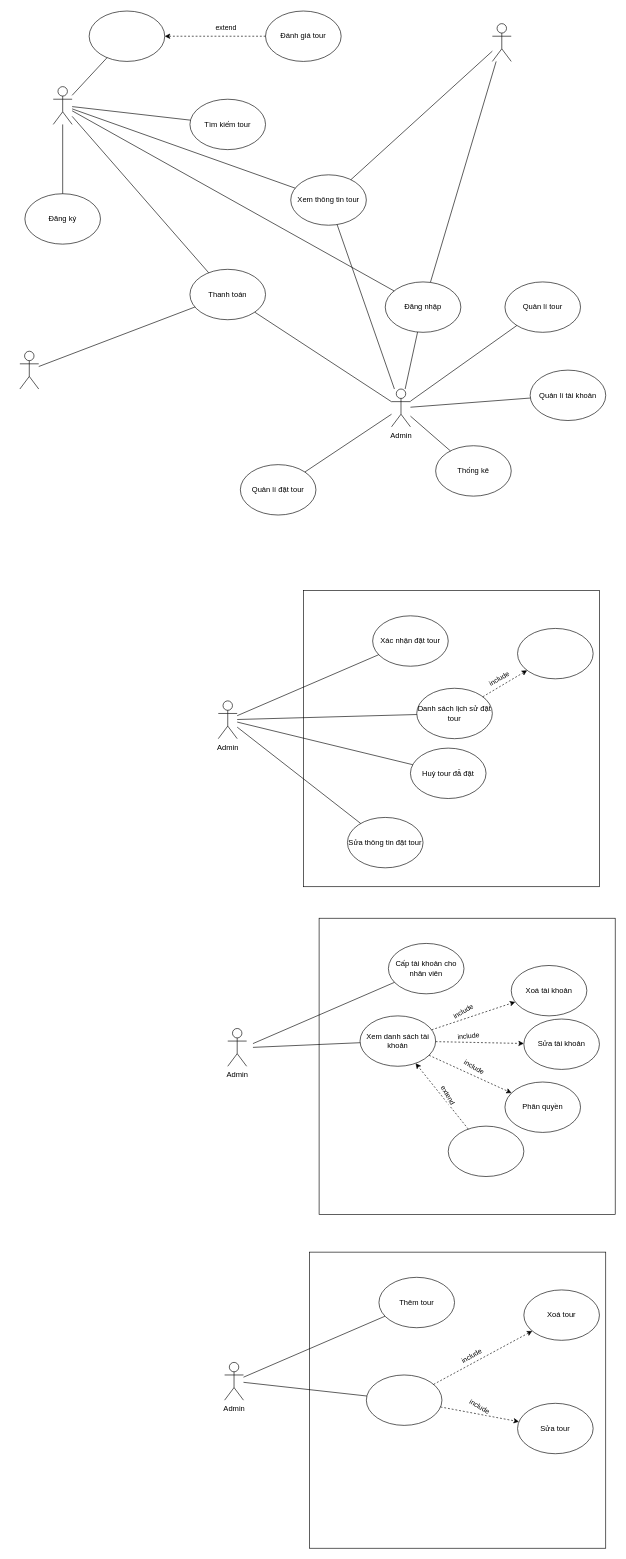
Image size: 626x1559. Some labels were removed from this diagram. The box of each missing label's shape, as (x1, y1, x2, y2) in pixels:
Khoá hoặc mở tài khoản: (448, 1125, 524, 1177)
Khách hàng: (53, 86, 72, 124)
Ngân hàng: (19, 351, 39, 389)
Nhân viên: (492, 23, 511, 61)
Xem chi tiết đặt tour: (517, 628, 593, 679)
Xem danh sách tour: (366, 1374, 442, 1425)
Đặt tour: (89, 10, 165, 61)
